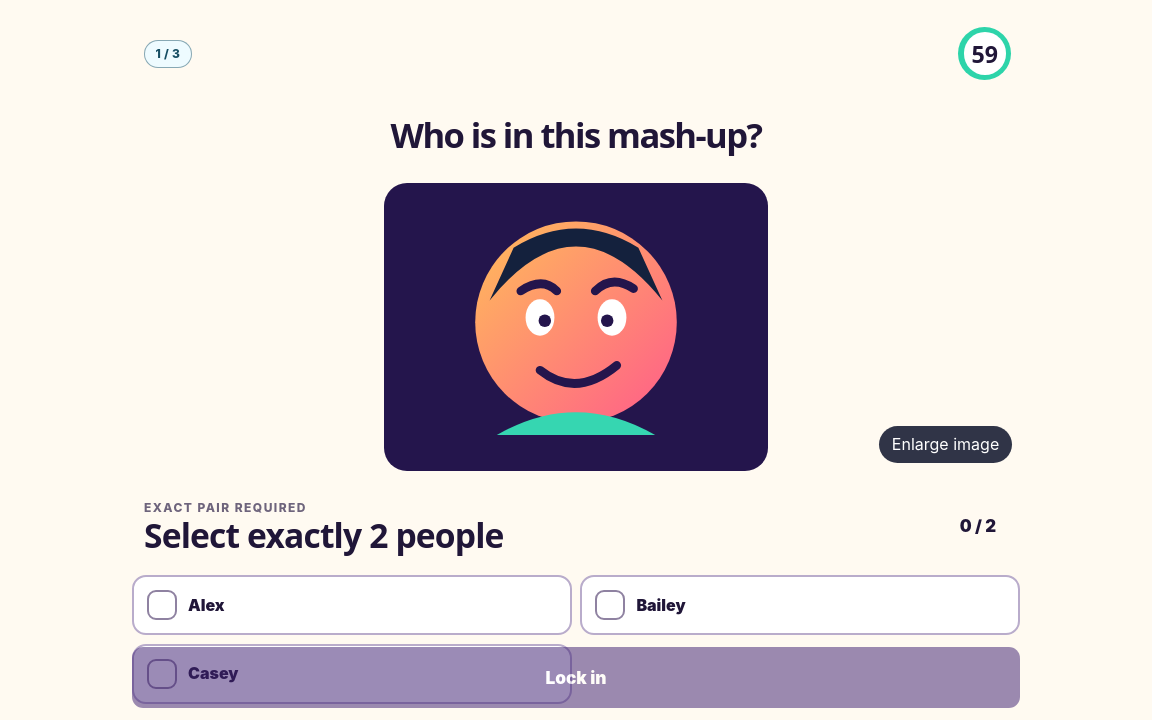
Test: PlayerQuestion mash-up › locks and restores a typed answer without exposing correctness
Click the button "Alex". click: (206, 605)
box: [132,575,572,635]
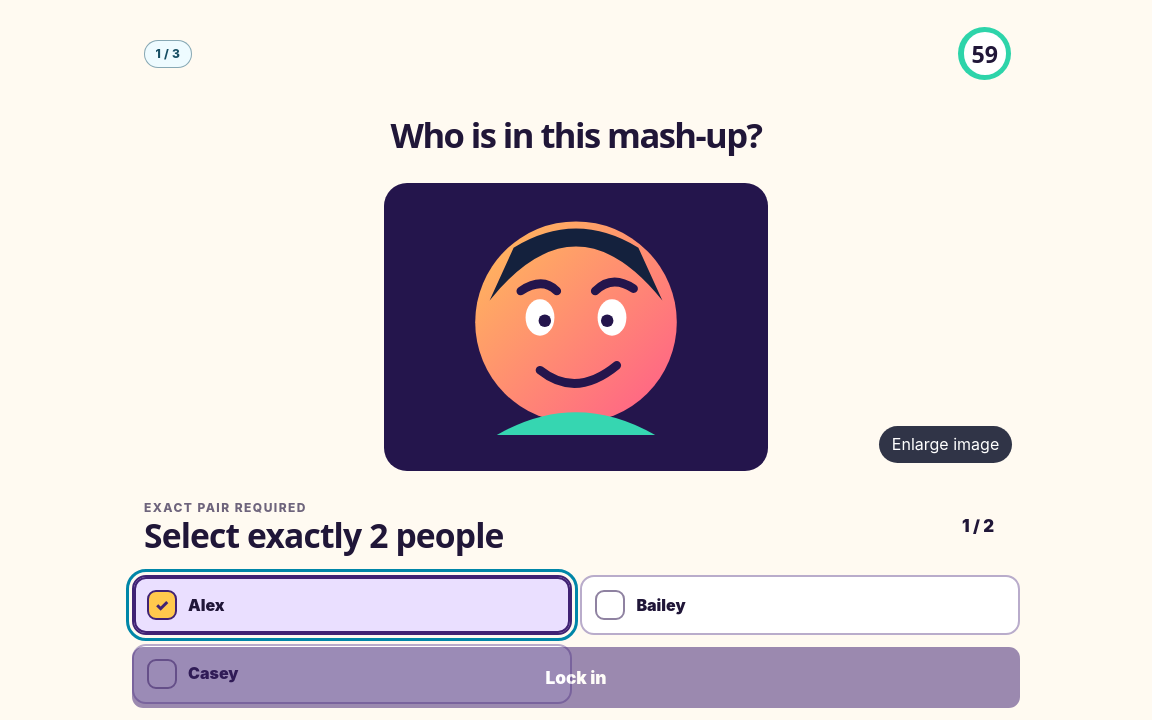
Click the button "Bailey". click: (661, 605)
box: [580,575,1020,635]
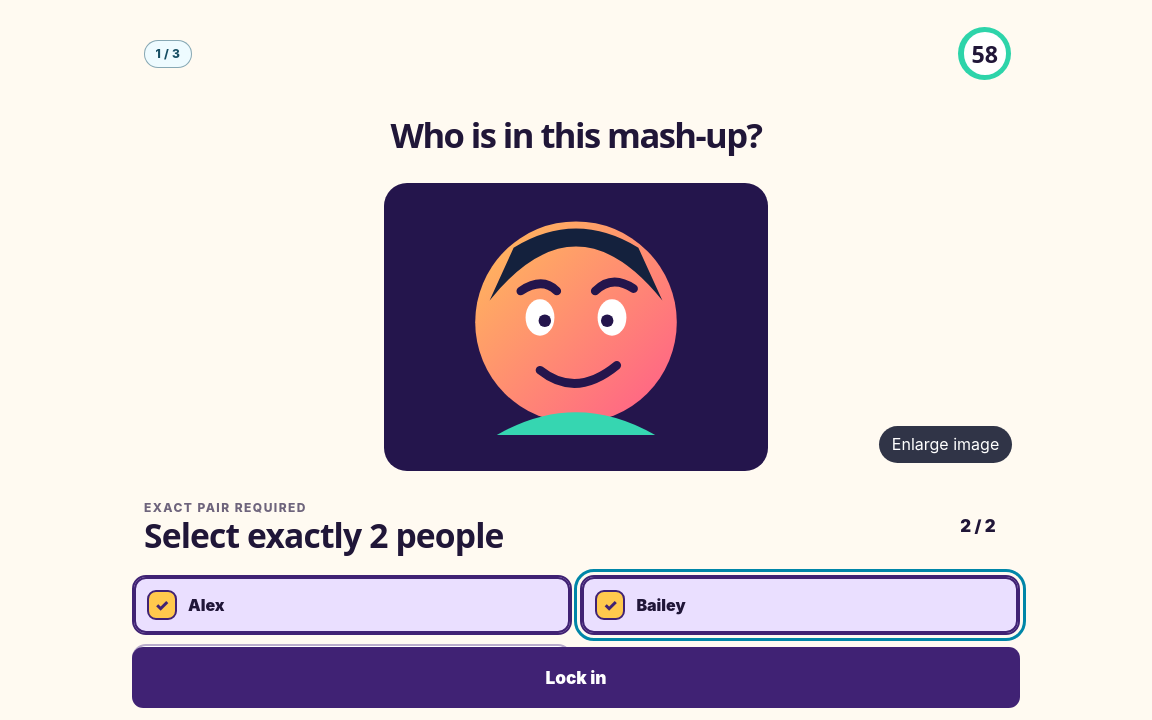
Click the button "Lock in". click: (576, 678)
box: [132,647,1020,708]
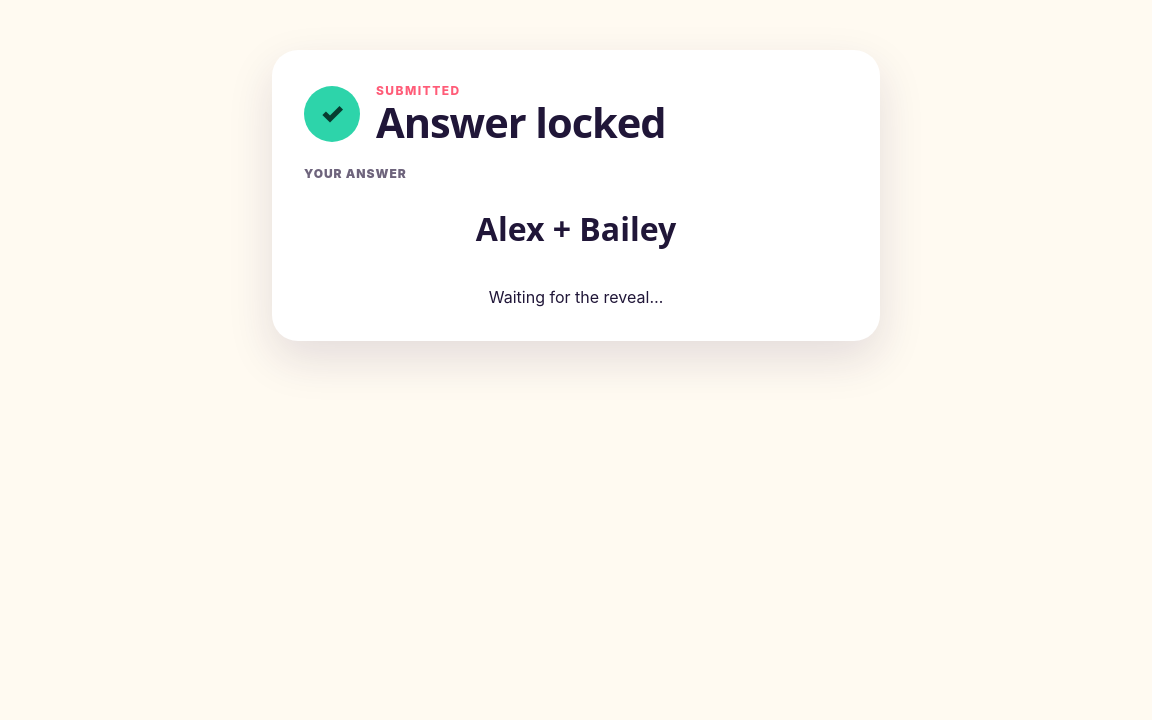
Check: the heading "Answer locked" is shown, box [376,100,666,145]
